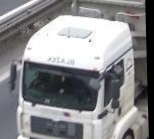truck: (13, 0, 149, 139)
